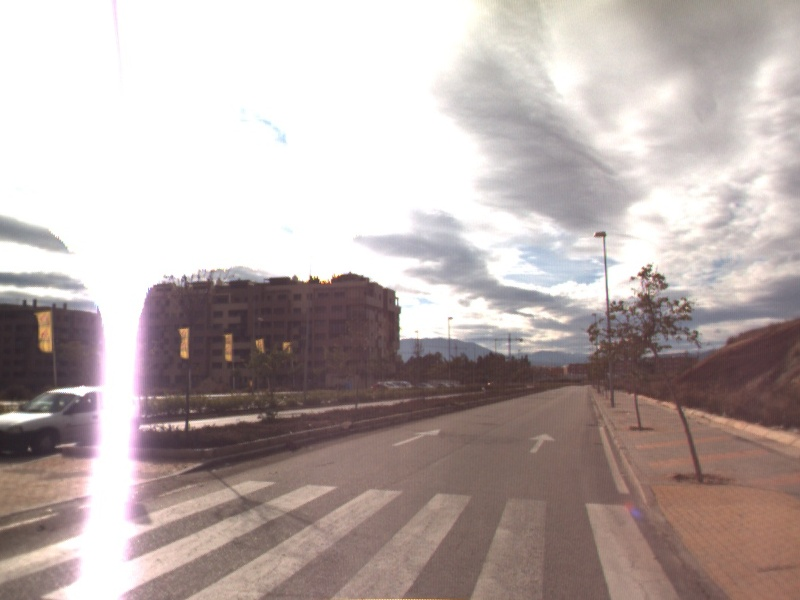STRAIGHT: (390, 427, 443, 448), (527, 431, 558, 455)
